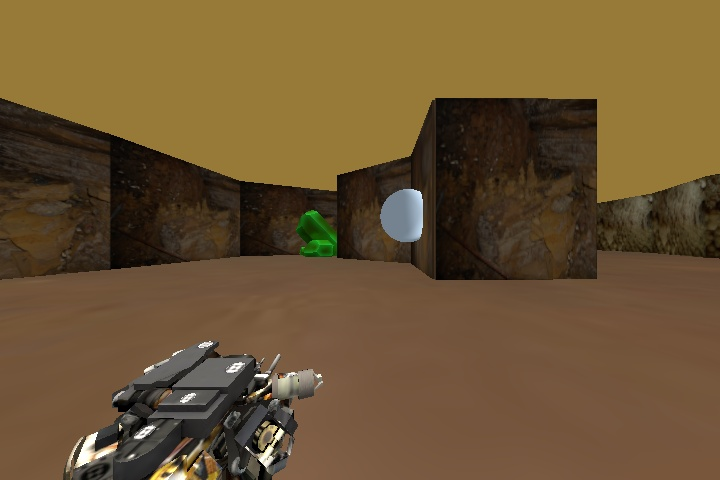gem: (296, 211, 336, 258)
sphere: (377, 187, 421, 243)
